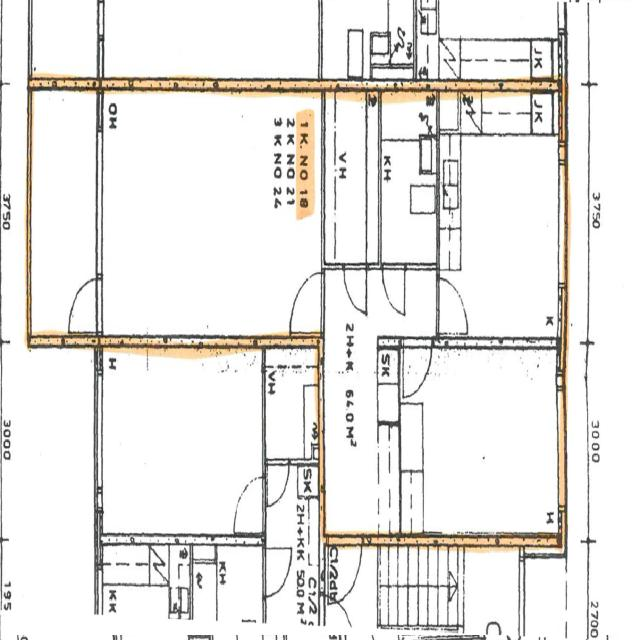door: (432, 270, 473, 342), (286, 265, 326, 338), (230, 470, 265, 540), (398, 336, 434, 403), (66, 270, 101, 338), (330, 538, 364, 606), (260, 536, 295, 602), (339, 258, 372, 320), (380, 260, 410, 322), (262, 454, 292, 510)
window: (89, 125, 106, 287), (314, 364, 328, 428)
zone: (93, 82, 323, 338), (438, 84, 564, 348), (400, 348, 566, 547), (96, 348, 264, 542), (322, 264, 403, 540), (420, 0, 570, 86), (321, 88, 381, 268), (379, 92, 438, 269), (262, 340, 322, 466), (333, 0, 419, 85), (459, 543, 522, 640), (216, 536, 264, 639)
